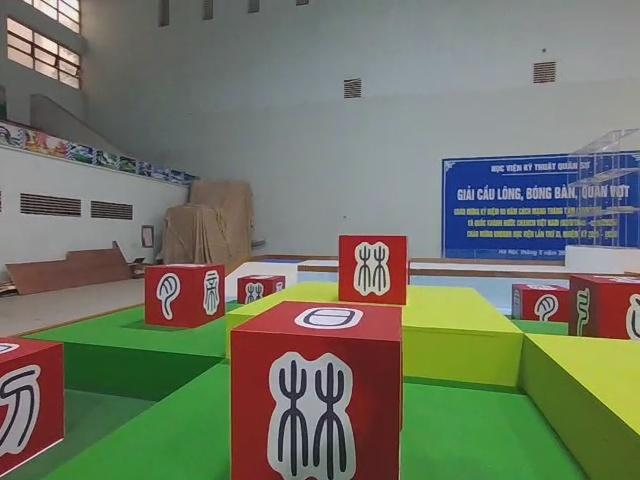R2 Fake: (225, 297, 406, 480), (0, 333, 68, 480), (140, 260, 228, 331), (567, 269, 640, 347), (337, 230, 409, 306), (509, 280, 574, 329), (235, 272, 286, 307)
